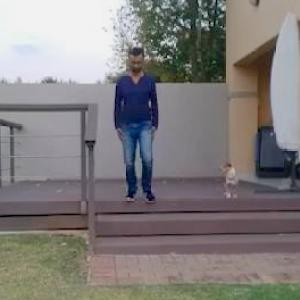follow: (112, 48, 152, 208)
